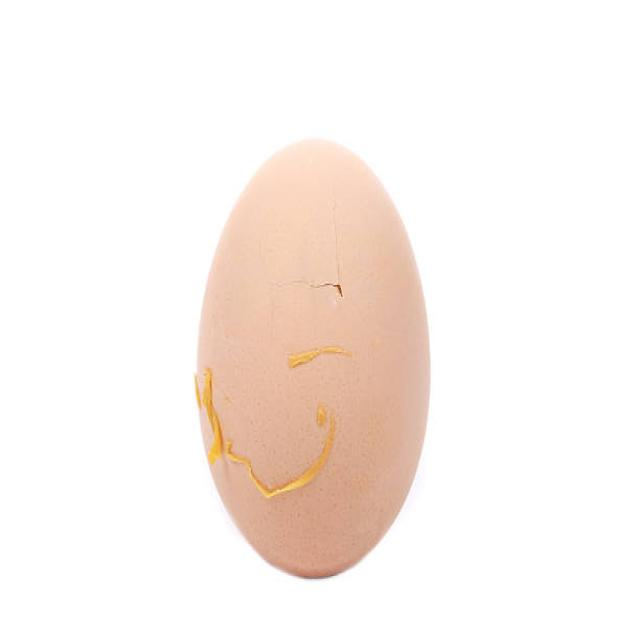Egg: (186, 102, 442, 588)
